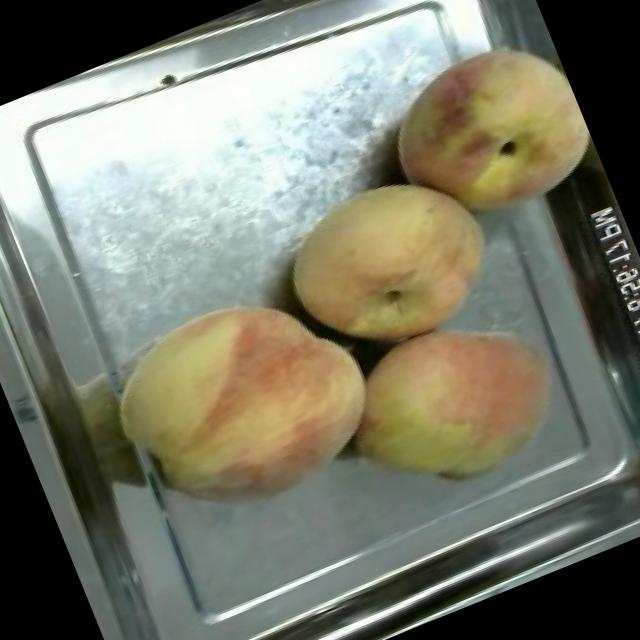Fruit: (88, 252, 402, 546), (315, 283, 588, 525), (256, 140, 519, 377), (360, 13, 610, 255)
